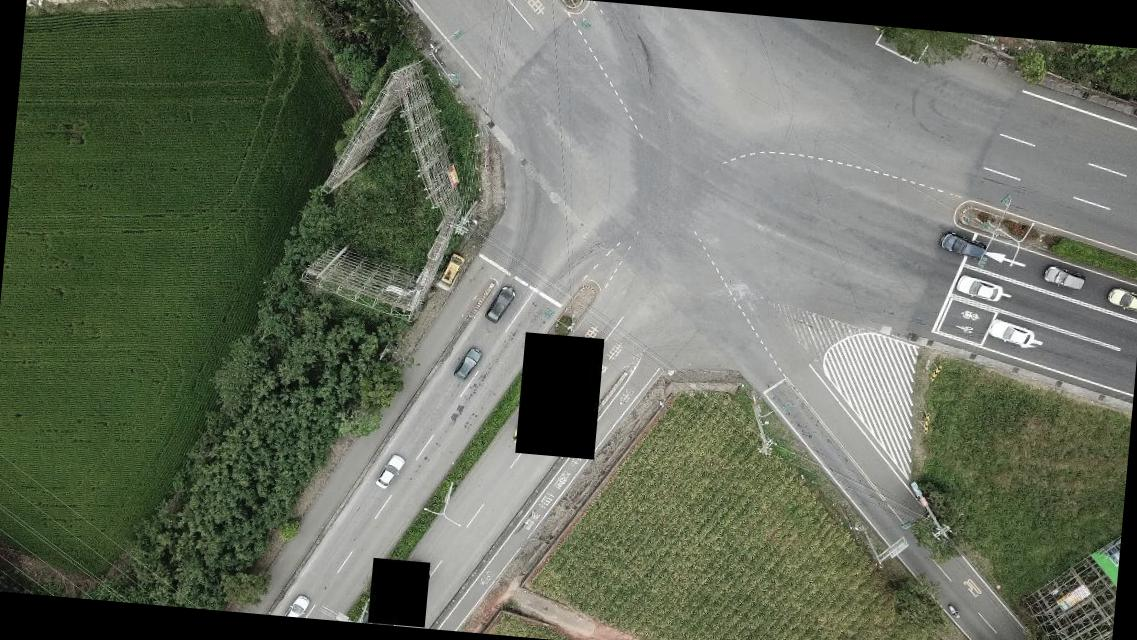vehicle: (937, 232, 987, 263), (988, 318, 1036, 348), (954, 274, 1004, 302), (484, 283, 516, 326), (1042, 265, 1086, 293), (376, 452, 404, 493), (454, 344, 481, 384), (1103, 283, 1136, 313), (440, 252, 463, 286), (284, 594, 312, 618)
